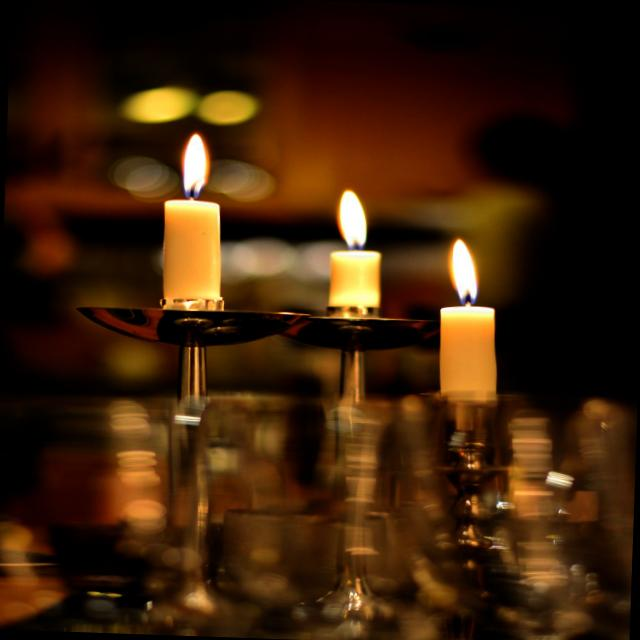Fire_Save: (158, 130, 229, 310), (435, 235, 503, 398), (324, 187, 386, 315)
